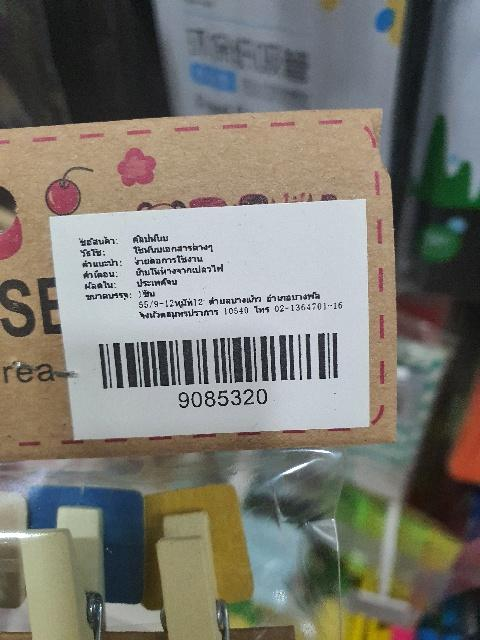Barcode: (91, 327, 341, 410)
